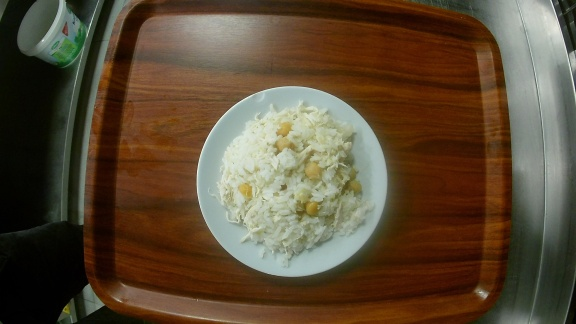nohutlupilav: (195, 86, 389, 277)
